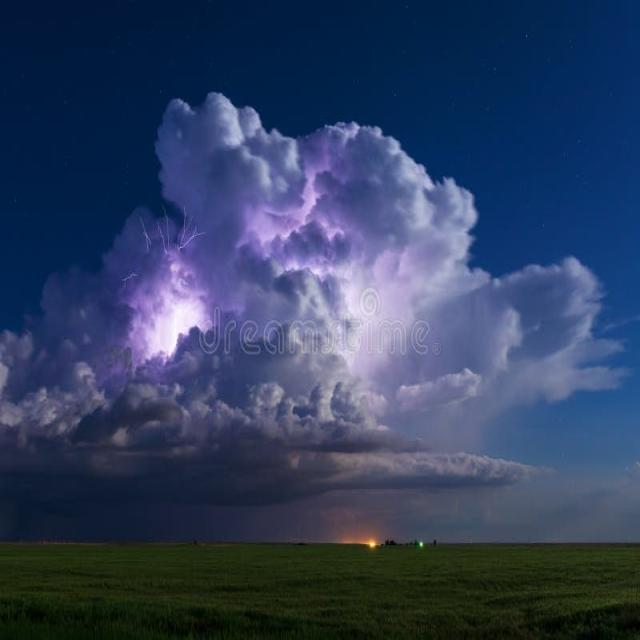cumulonimbus: (8, 67, 640, 540)
